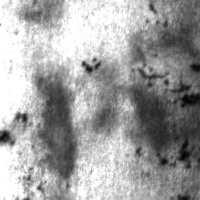inclusion: (150, 137, 197, 168), (161, 77, 200, 111), (1, 109, 31, 150), (78, 54, 104, 74)
patches: (34, 75, 79, 178), (132, 0, 199, 62), (121, 89, 179, 156)
